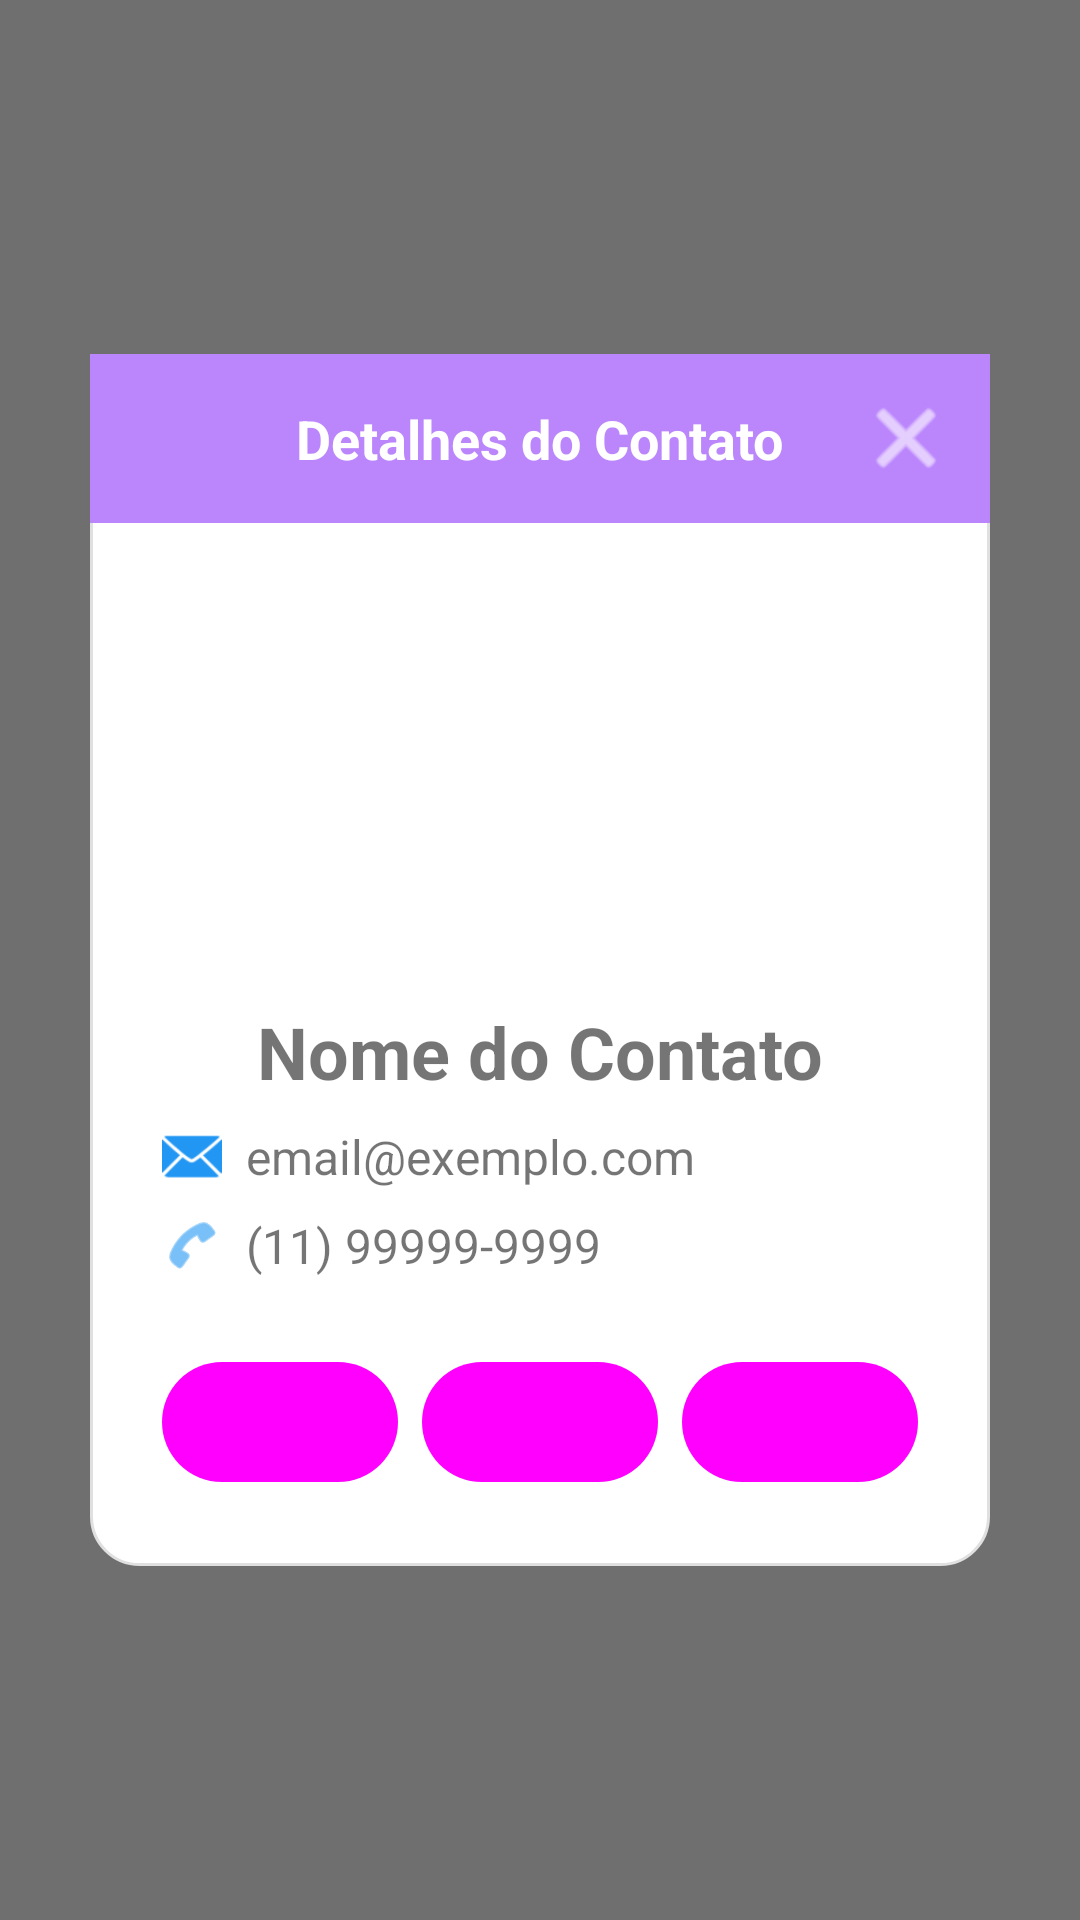

Icon click points for this 1080px×1920px phone screenshot, format point (x, y):
Fechar: point (906, 438)
Ícone de email: point (192, 1156)
Ícone de telefone: point (192, 1245)
